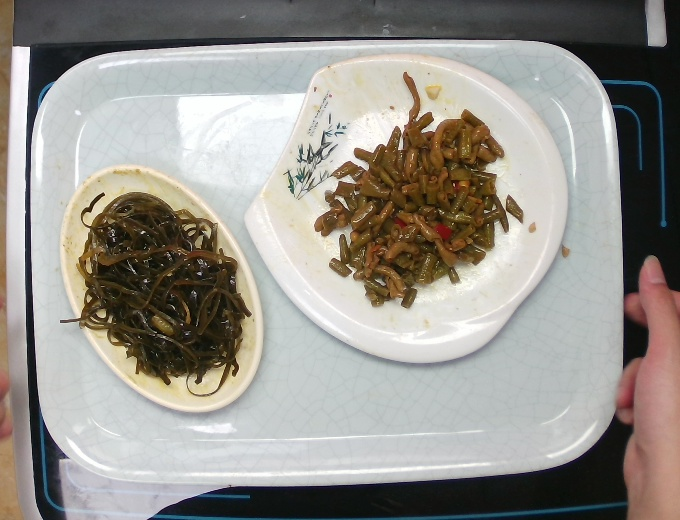JYsf-Mian_Pan: (241, 50, 571, 366)
JYsf-Tuo_Yuan_Wan: (55, 162, 266, 417)
